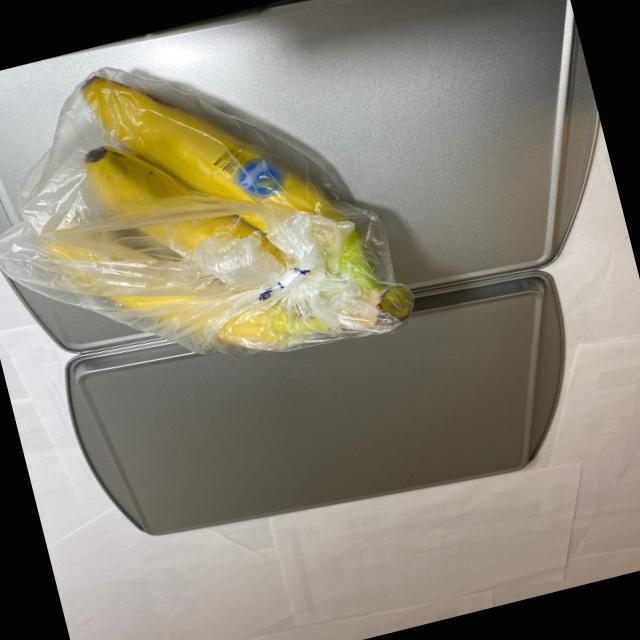banana: (0, 7, 435, 417)
